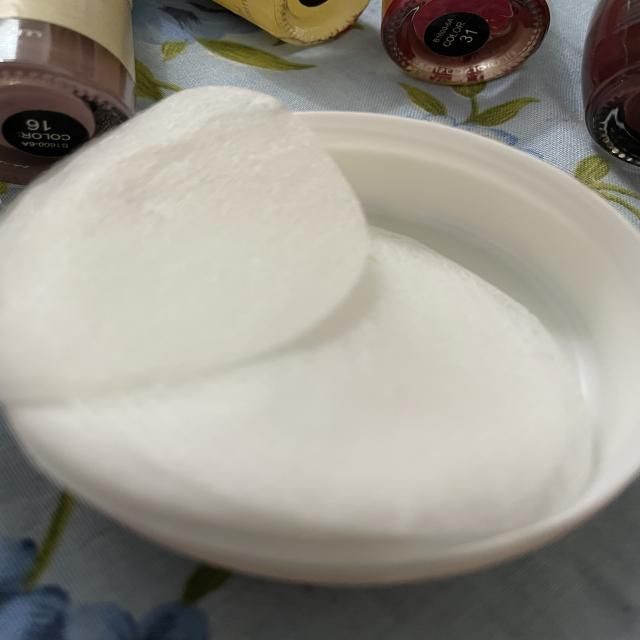nail polish remover: (0, 66, 640, 604)
